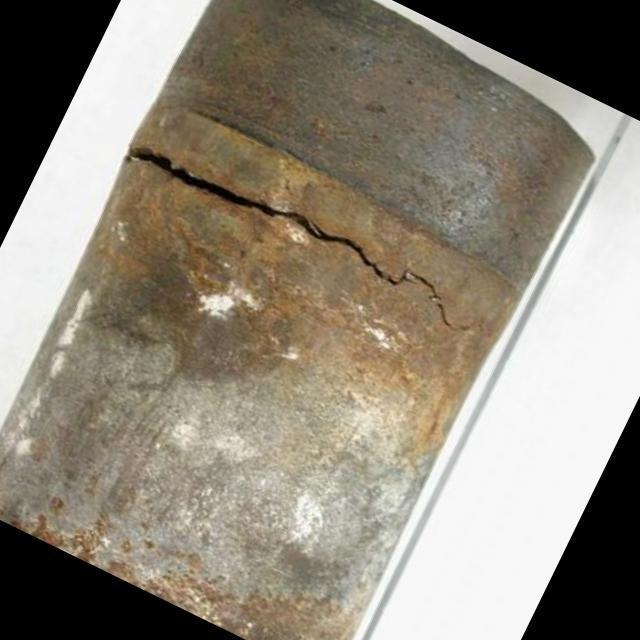defect: (127, 141, 476, 337)
